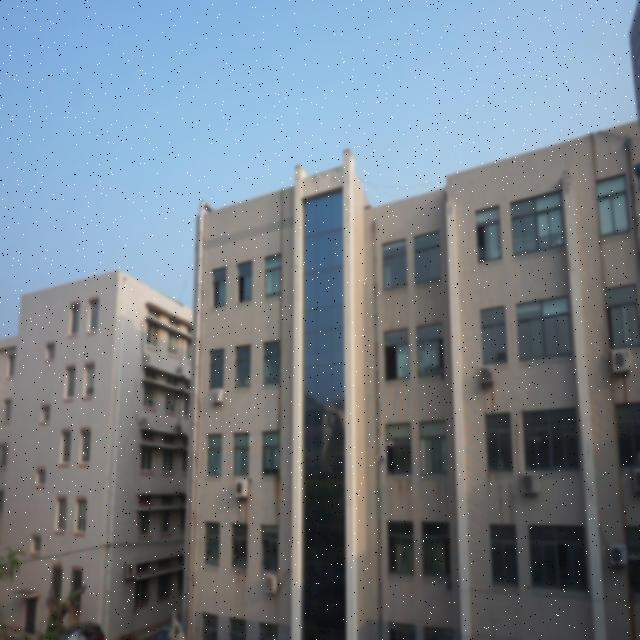UAV: (377, 455, 387, 465)
